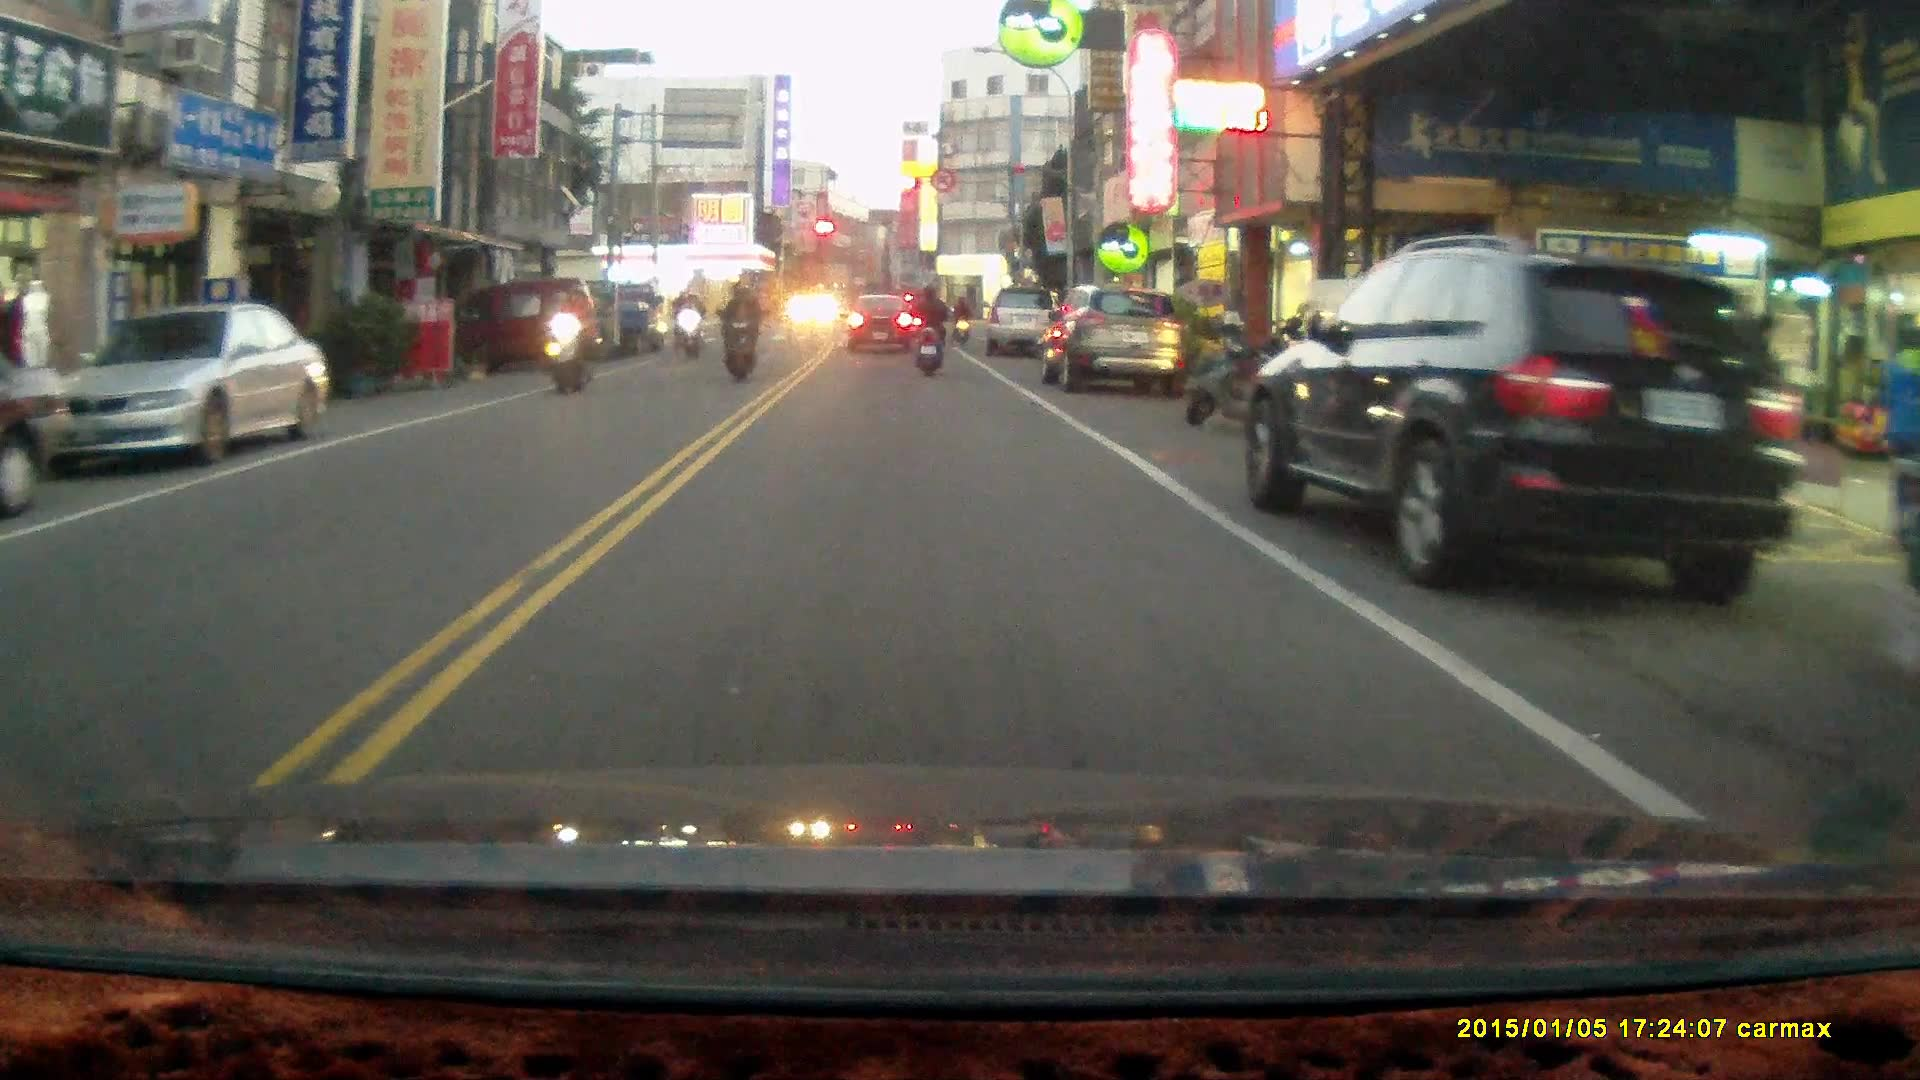rider: (546, 282, 593, 397), (715, 283, 757, 385), (909, 281, 949, 378), (676, 291, 704, 362), (949, 294, 970, 346)
vehicle: (1245, 238, 1791, 602), (35, 300, 331, 471), (440, 277, 603, 377), (1040, 284, 1183, 396), (1, 317, 68, 524), (988, 288, 1068, 363)
